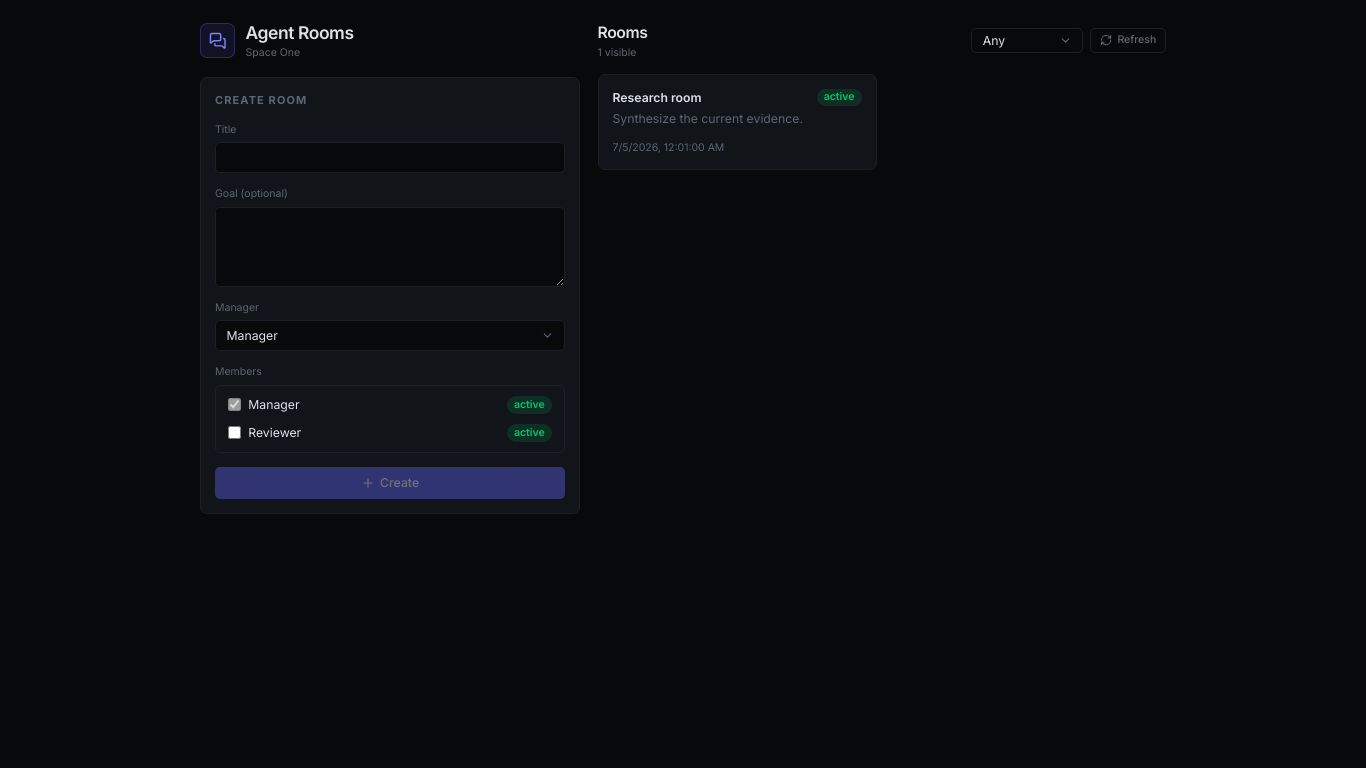
Test: AgentGroupsPage › does not reuse previous segment text for a trailing unfinished @mention
Click the button "Research room".
click(737, 122)  # box x1=598 y1=74 x2=876 y2=170
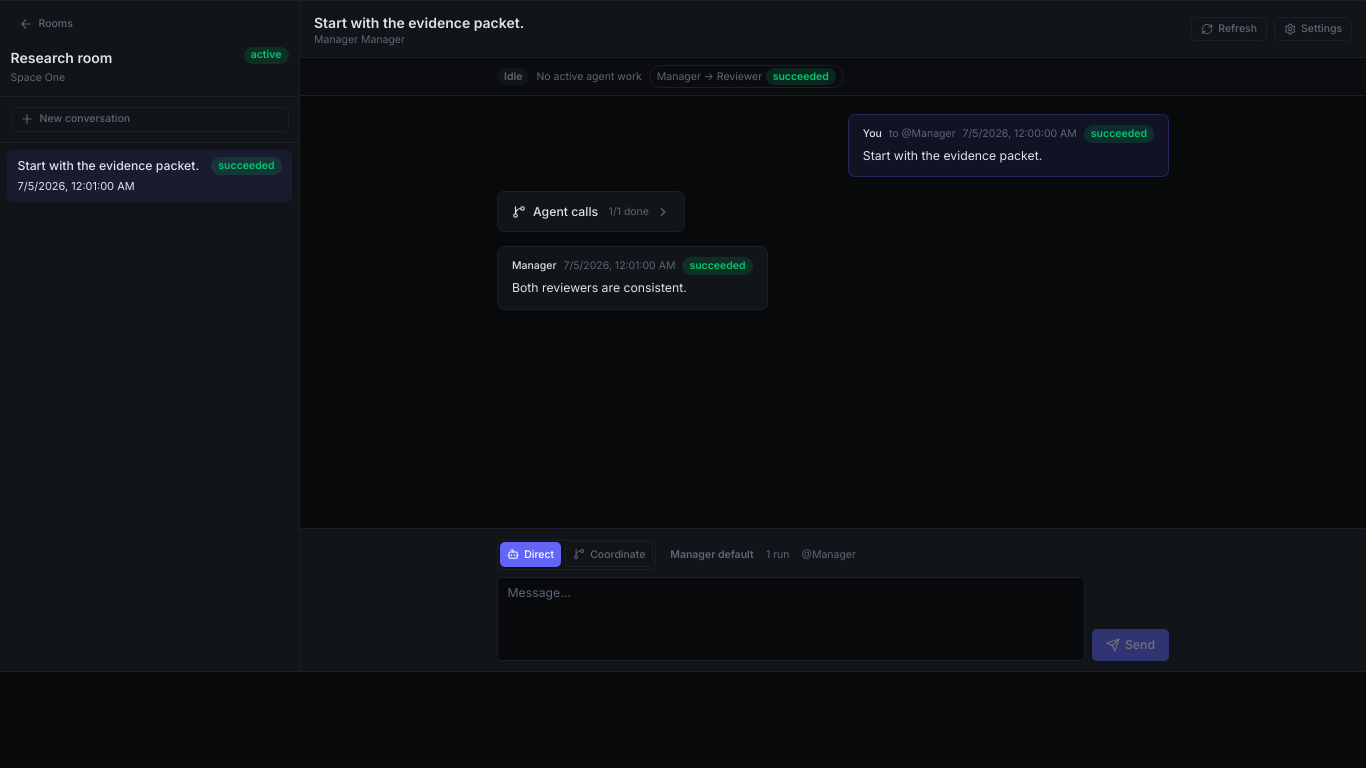
Type "@Rev" into the field named "Room message".
click(791, 618); type("@Rev")  # box x1=497 y1=576 x2=1085 y2=660
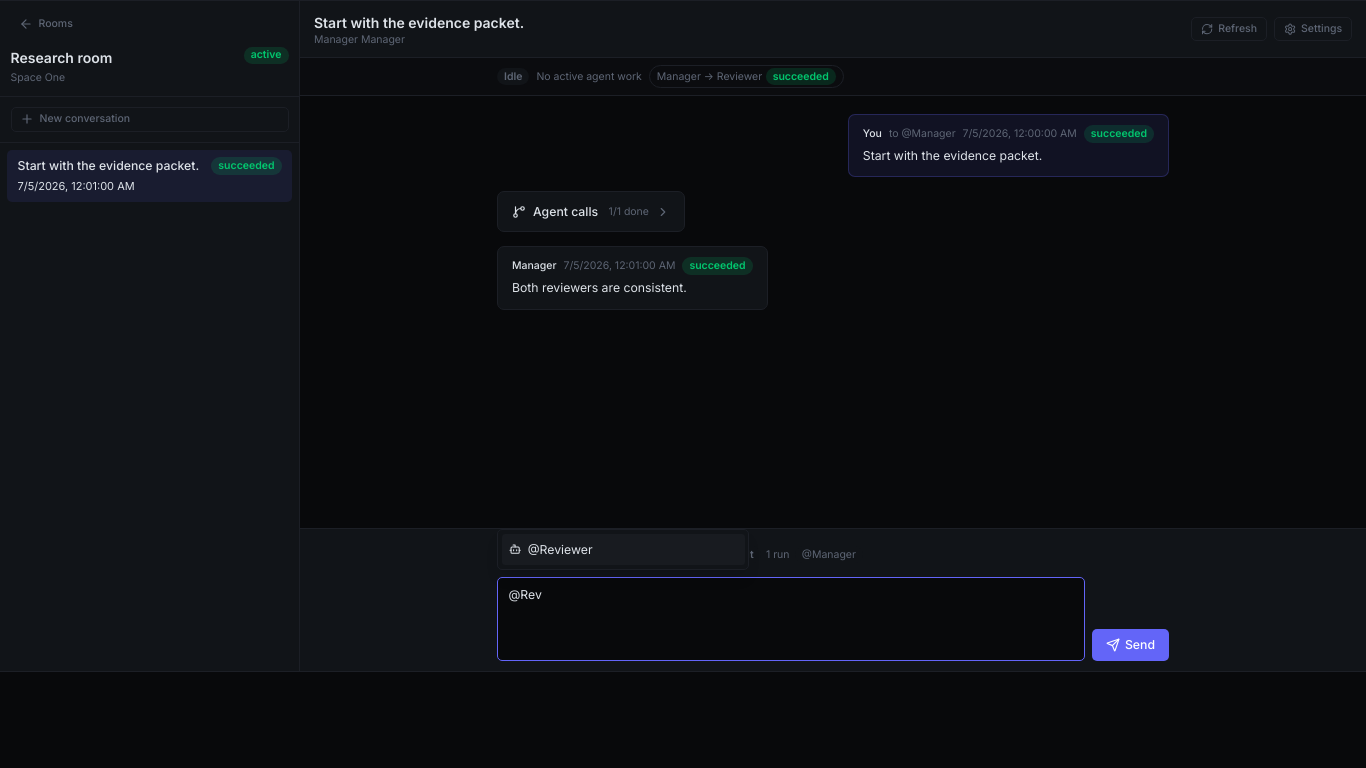
Expected: the option "@Reviewer" is shown, x1=502 y1=534 x2=744 y2=565
Press Enter
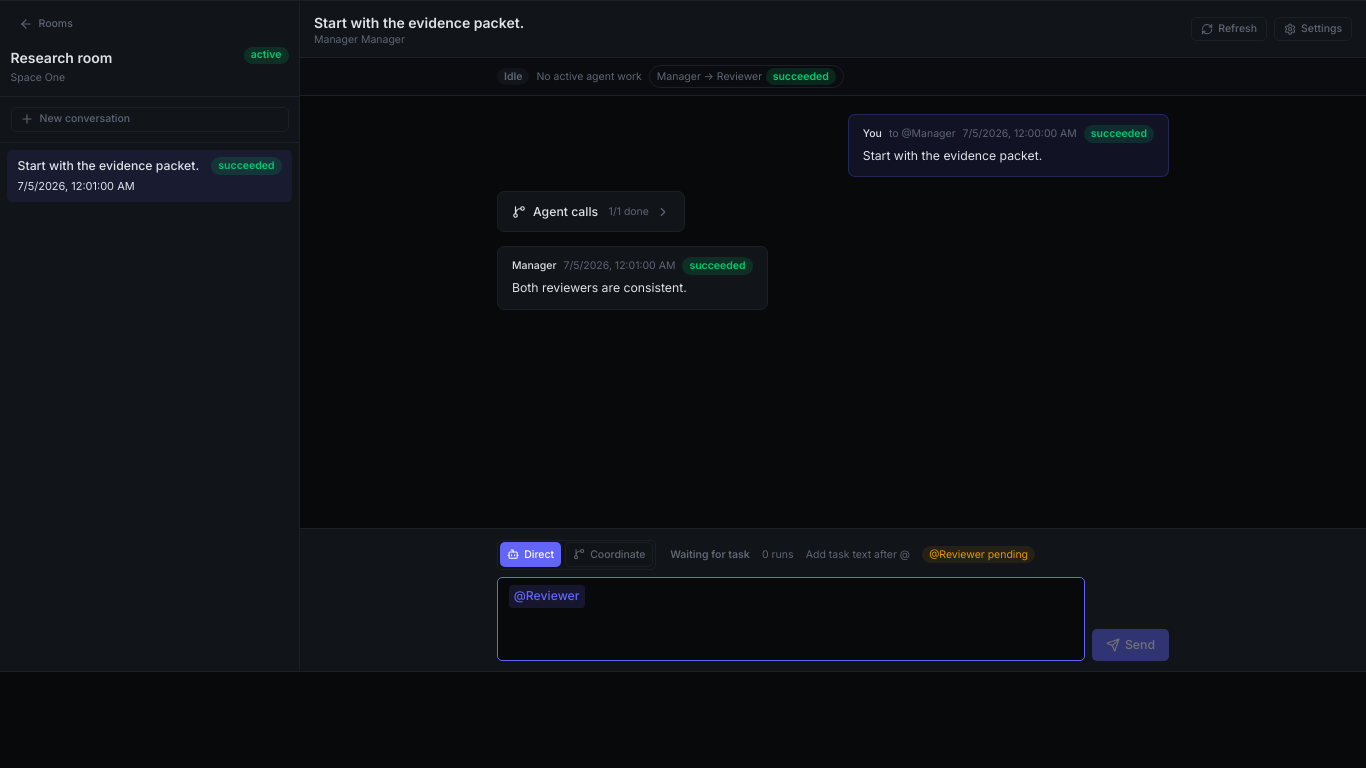
Type "test " into the field named "Room message".
click(791, 618); type("test ")  # box x1=497 y1=576 x2=1085 y2=660
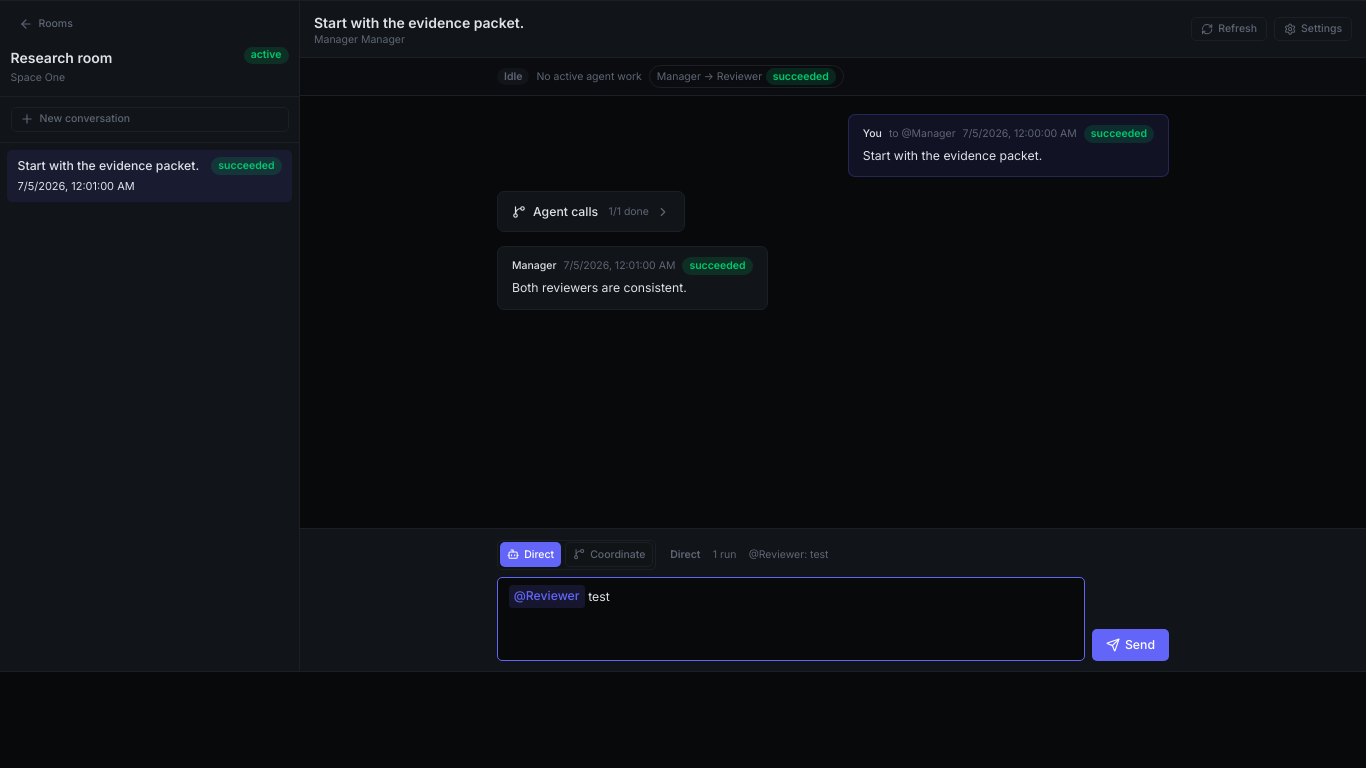
Type "@Man" into the field named "Room message".
click(791, 618); type("@Man")  # box x1=497 y1=576 x2=1085 y2=660
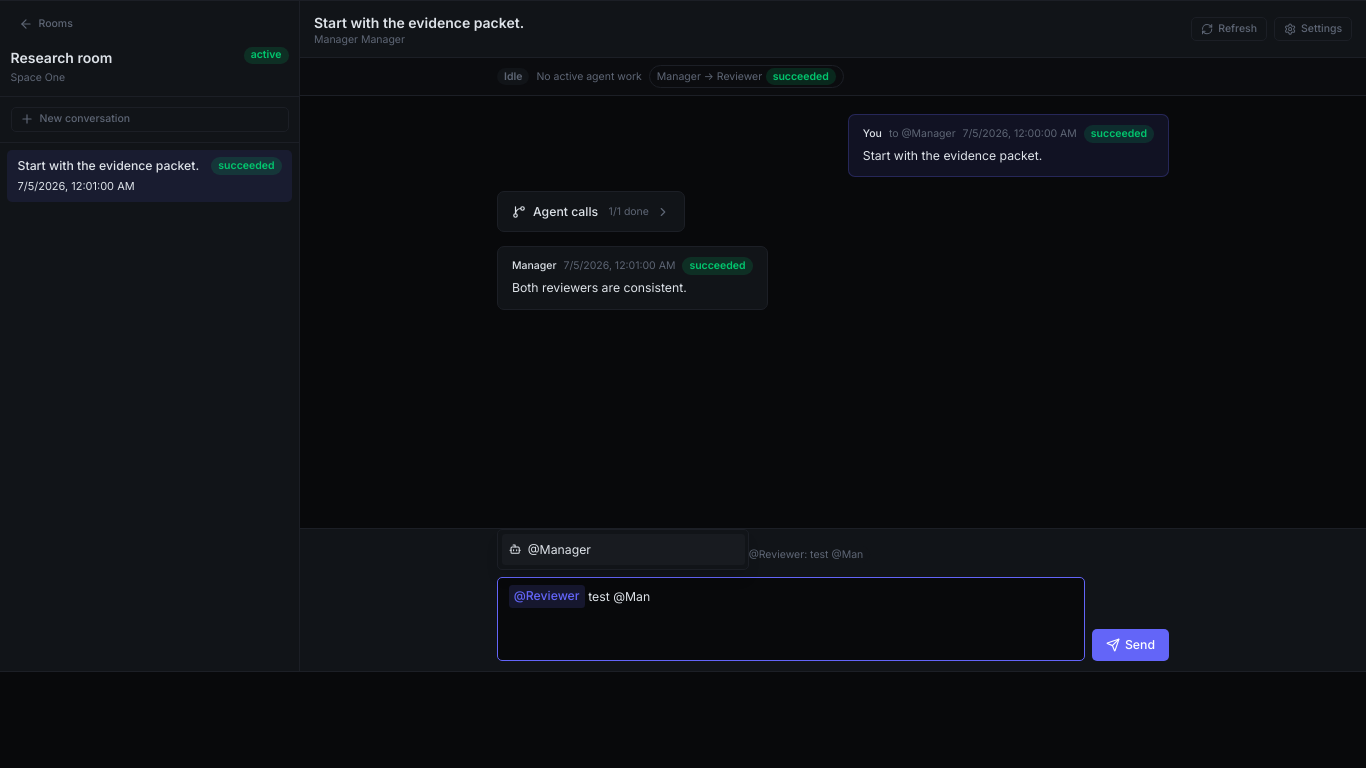
Expected: the option "@Manager" is shown, x1=502 y1=534 x2=744 y2=565
Press Enter
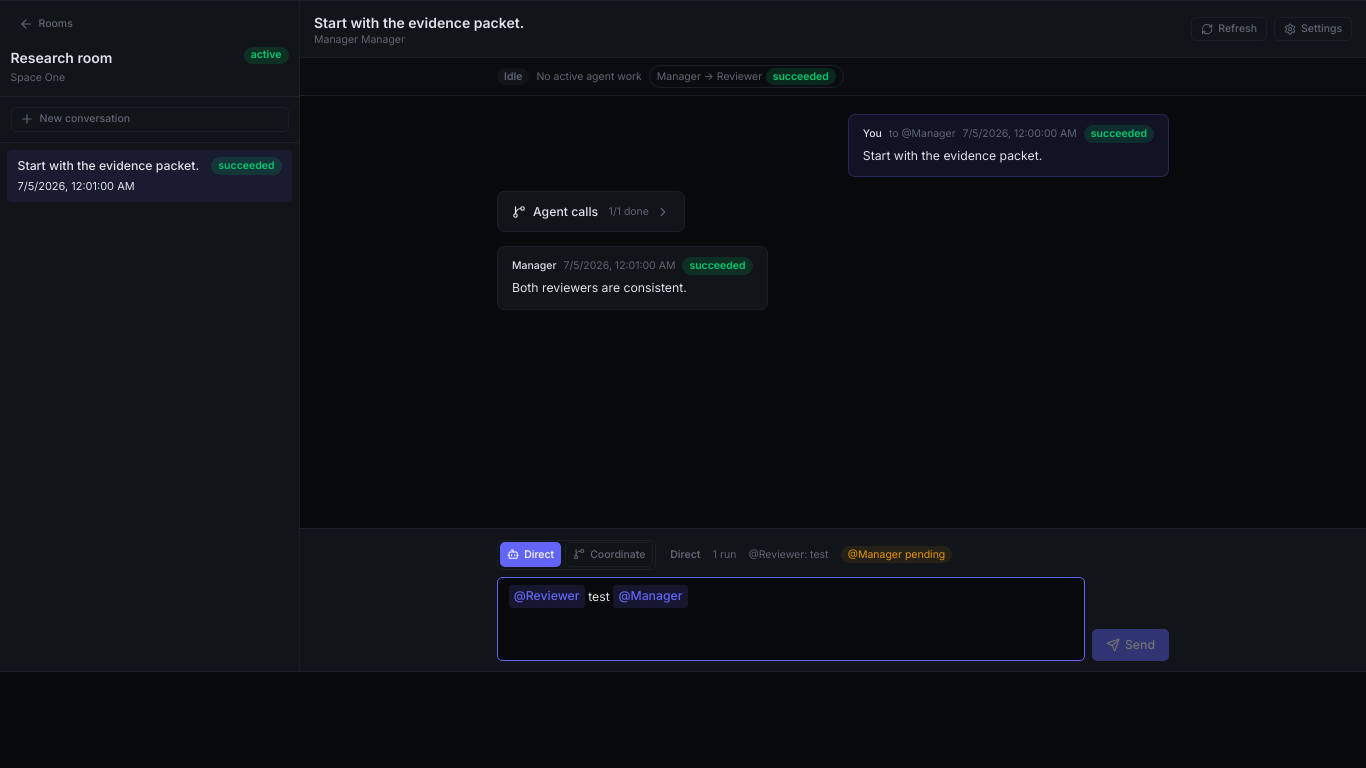
Expected: the text "@Reviewer: test" is shown, x1=742 y1=546 x2=836 y2=563
Expected: the text "@Manager pending" is shown, x1=841 y1=546 x2=952 y2=563
Expected: the button "Send" is disabled, x1=1092 y1=629 x2=1169 y2=660
